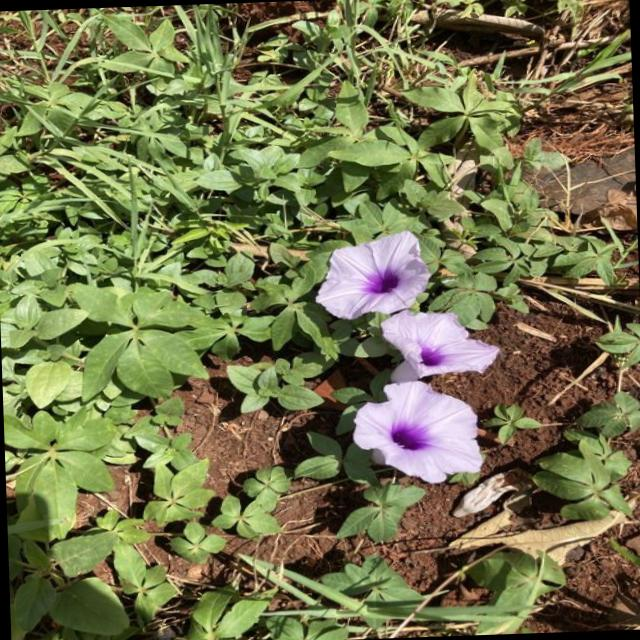ipomoea: (308, 226, 506, 490), (345, 376, 487, 488), (308, 228, 435, 324), (375, 306, 503, 383)
